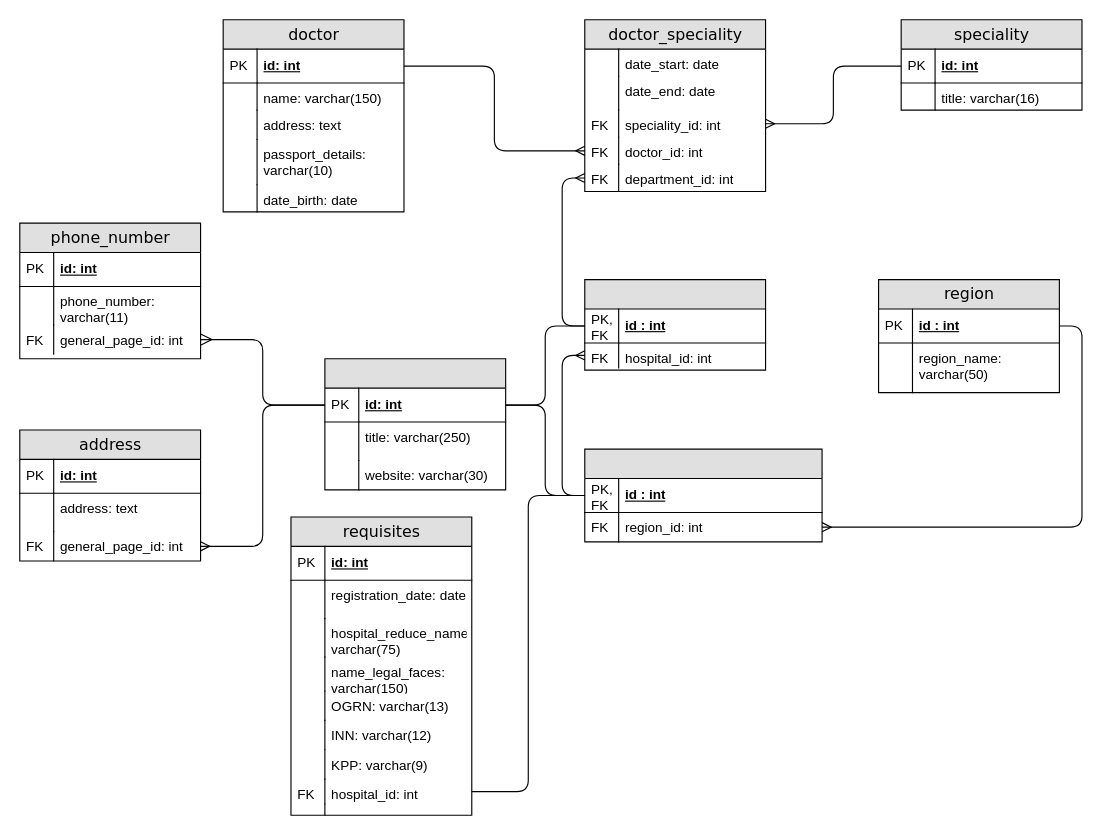
Some shapes in this 1111 by 835 pixel diagram are drawn without their labels. The shapes that lost their labels are listed below. From the top down, each one's box as (x1, y1, x2, y2) in pixels, then its label:
(584, 279, 766, 370): department
(324, 358, 506, 490): general_page
(584, 448, 822, 542): hospital
